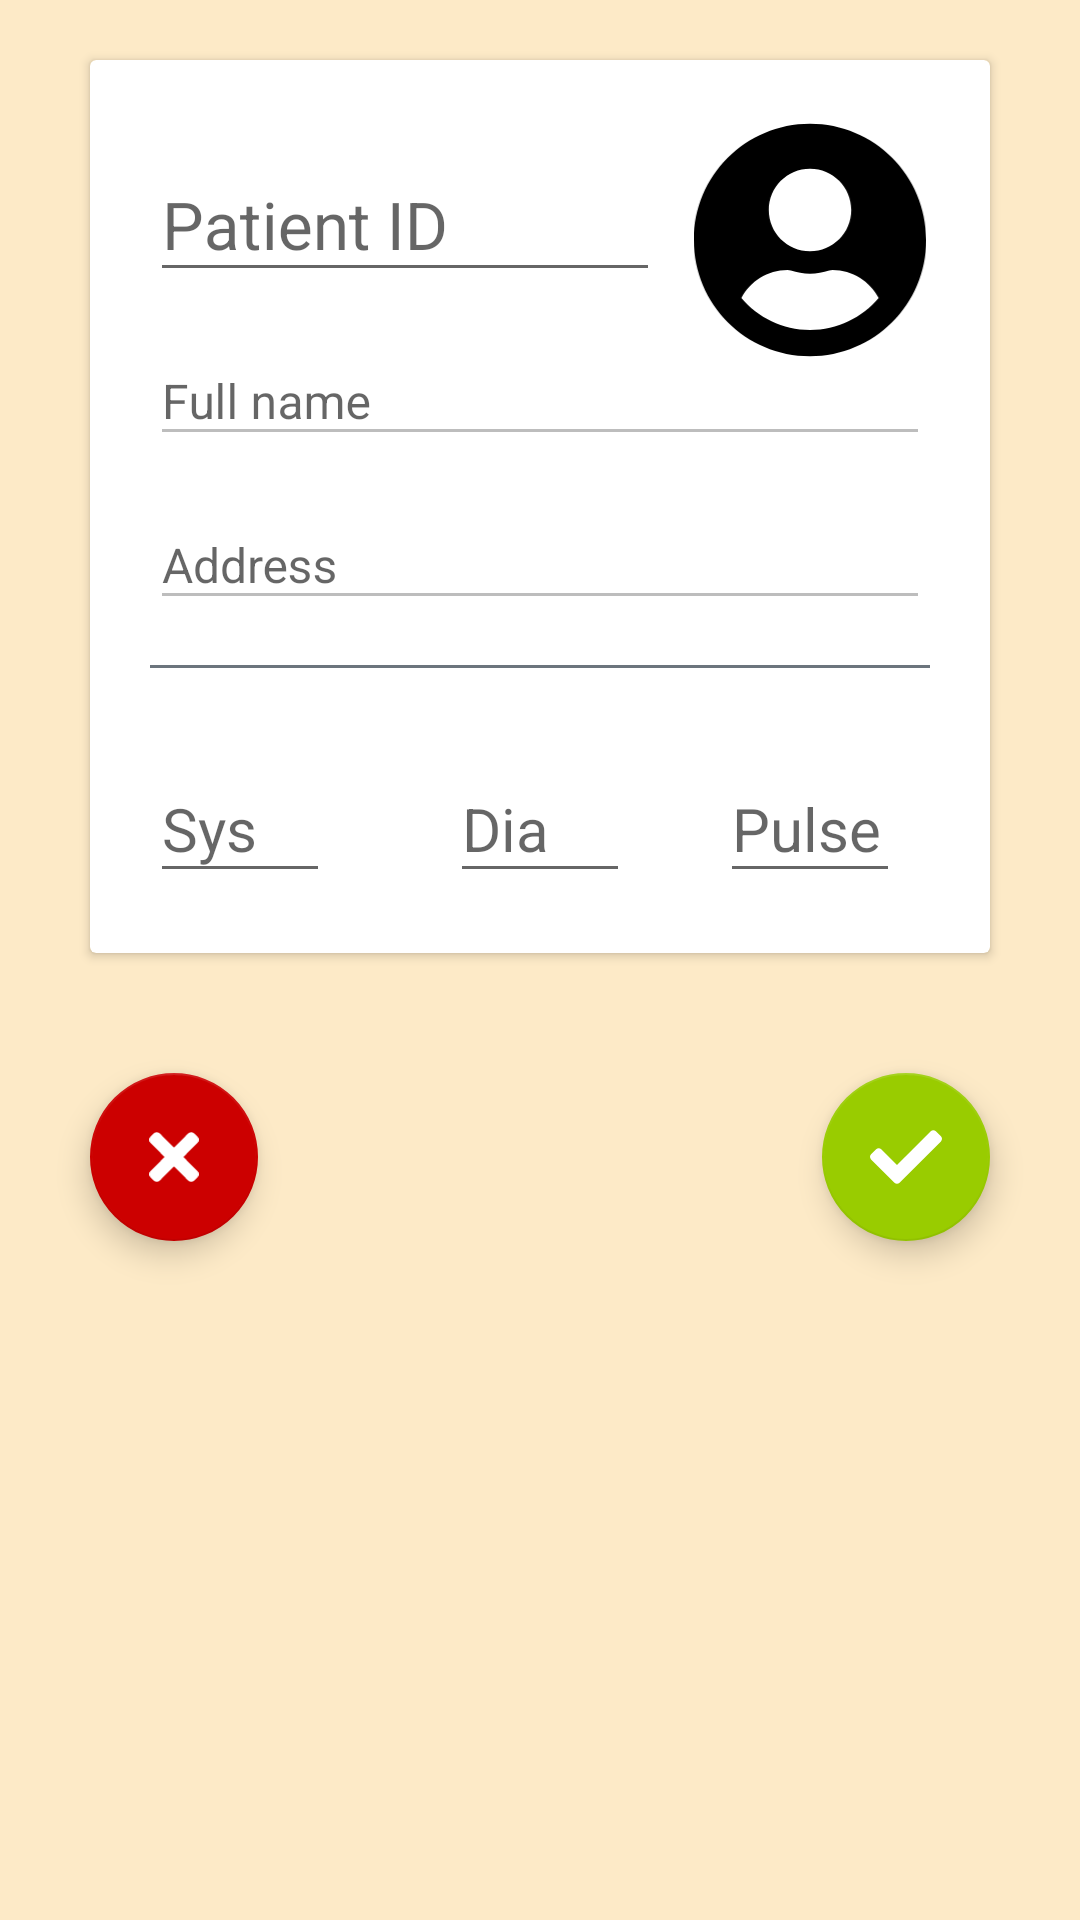

Icon bounding boxes for this 1080px x 1920px phone screenshot, format [x1,y1,x2,y2]:
Cancel: [90,1073,258,1241]
Confirm: [822,1073,990,1241]
Patient Profile Photo: [694,123,926,357]
